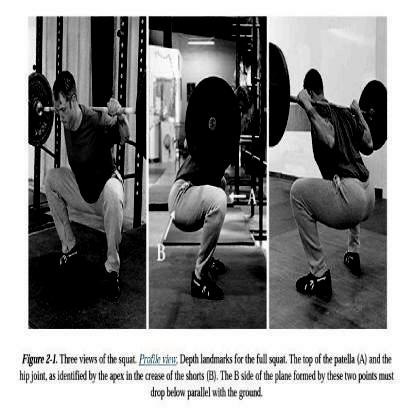Barbell: (210, 115, 218, 134)
